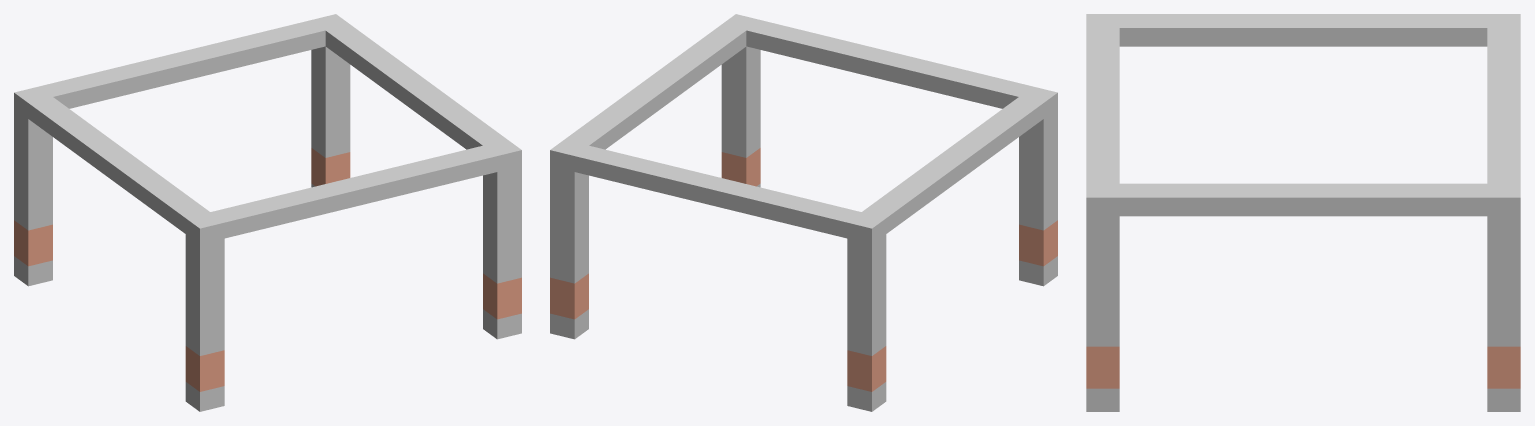
Rendered from frameHigh.fbx.
The picture shows the model from 3 angles, left to right: view 1: azimuth 30°, elevation 25°; view 2: azimuth 150°, elevation 25°; view 3: azimuth 270°, elevation 25°; orthographic projection. The views are drawn at different scales.
Visible parts, largest first — view 1: frameHigh; view 2: frameHigh; view 3: frameHigh.
Part boxes in pixels (x1=…): frameHigh: x1=14, y1=14, x2=521, y2=411; frameHigh: x1=550, y1=14, x2=1057, y2=411; frameHigh: x1=1086, y1=14, x2=1520, y2=411.
Bounding box in the file's own units: 845 × 460 × 845.
